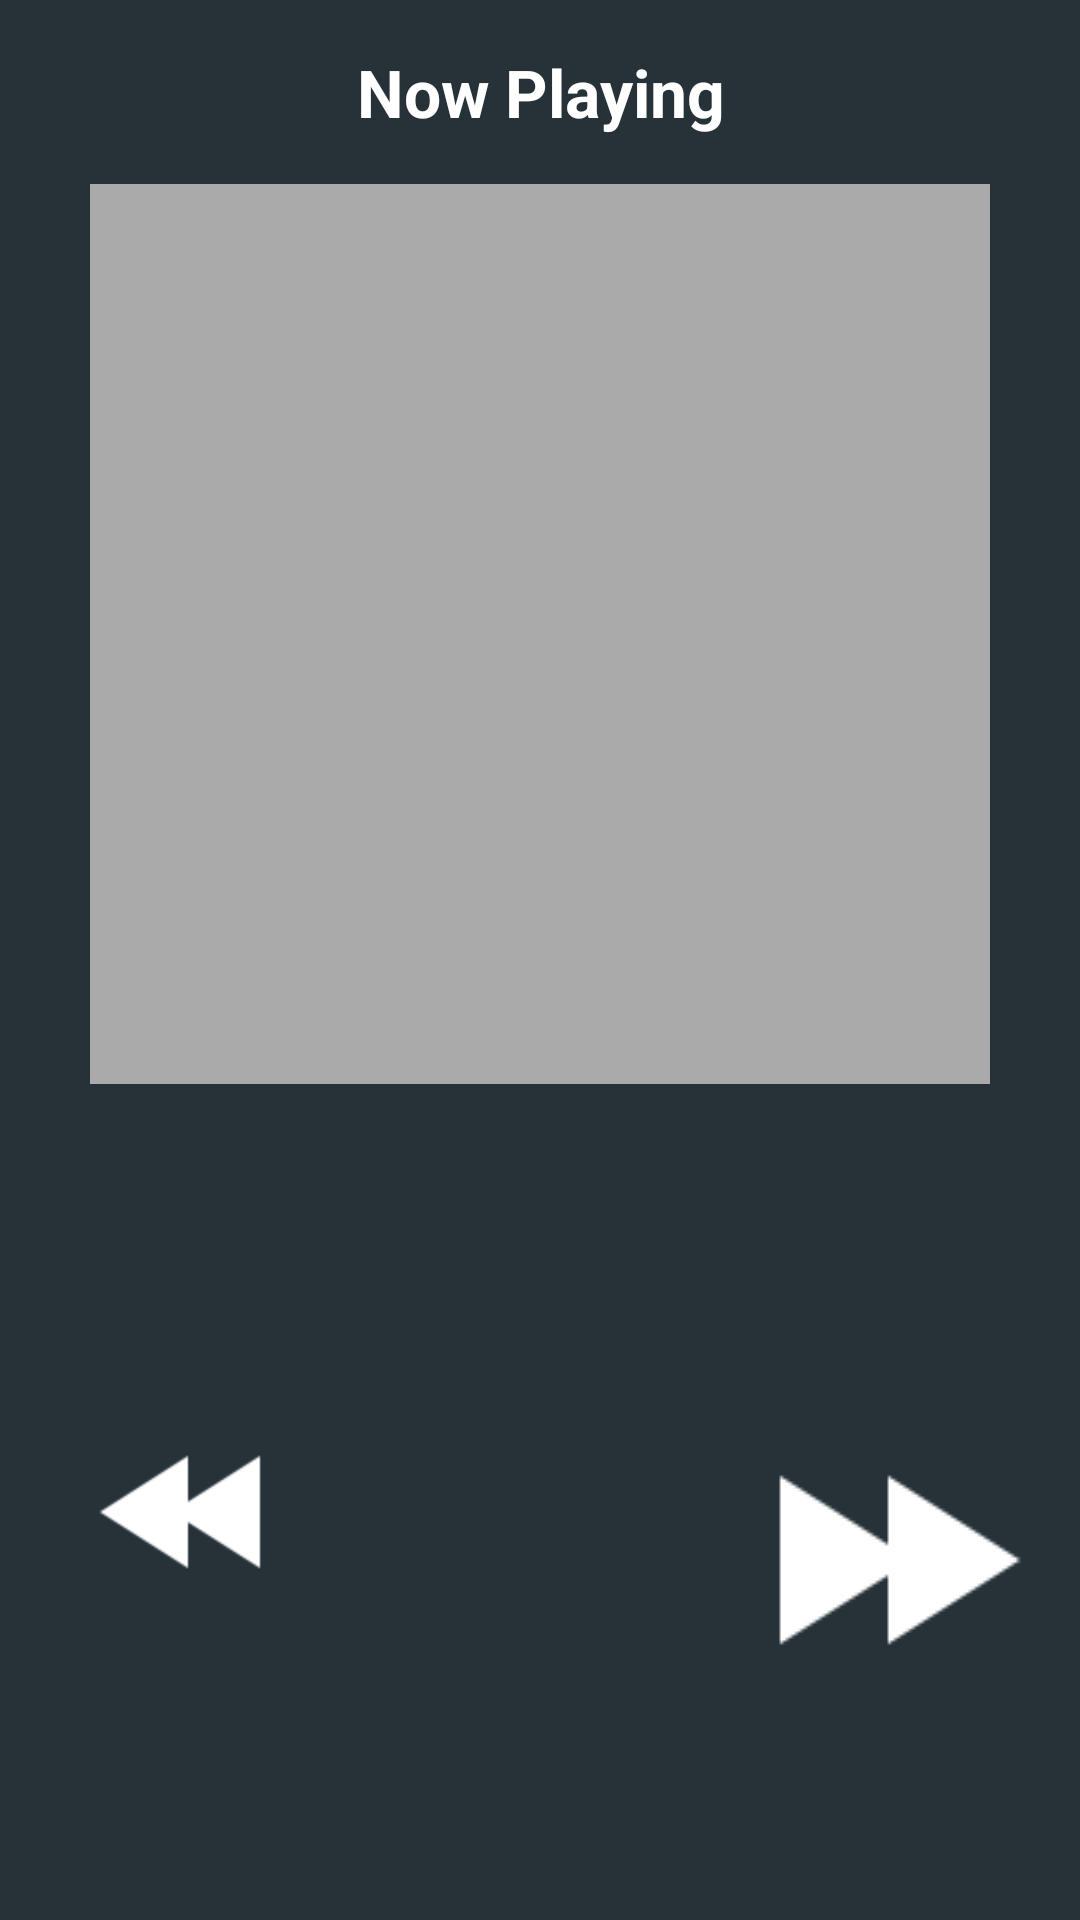

Point at icon controls on the screen. Image size 1080w x 1920h, points as (x=x, y=y).
forwardbutton: (x=899, y=1560)
rewindbutton: (x=180, y=1512)
